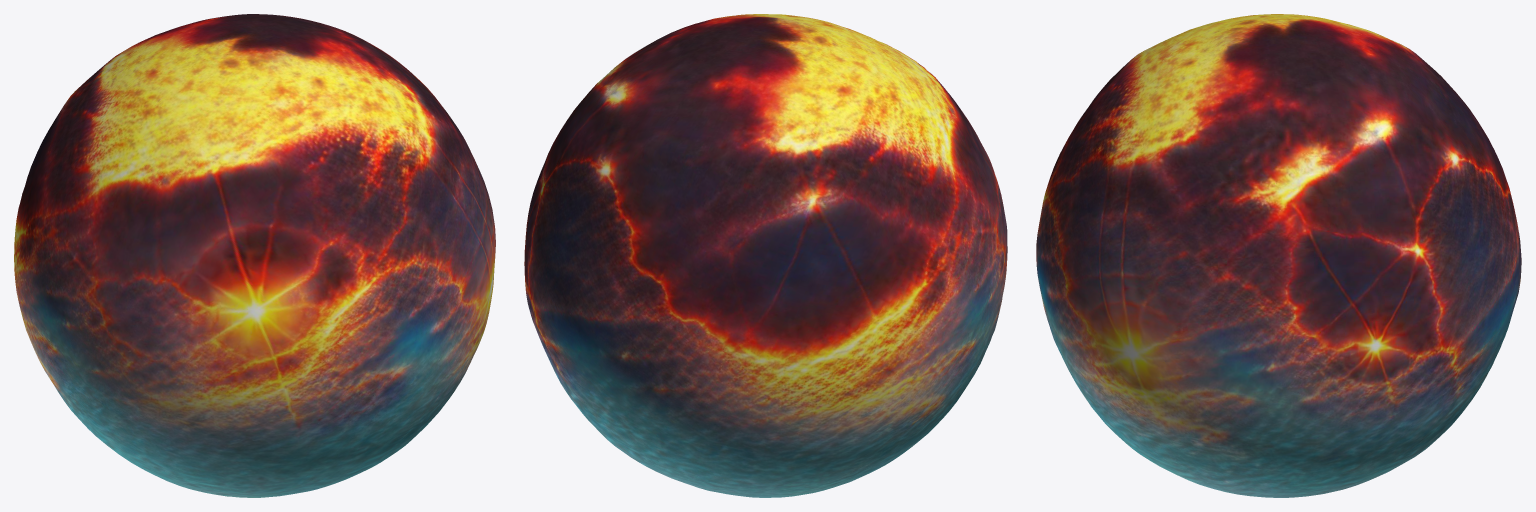
The picture shows the model from 3 angles, left to right: view 1: azimuth 30°, elevation 25°; view 2: azimuth 150°, elevation 25°; view 3: azimuth 270°, elevation 25°; orthographic projection.
Parts seen in each view (by area): view 1: mesh; view 2: mesh; view 3: mesh.
Boxes of the visible parts, x1,y1,x2,y2 form: mesh: [14, 14, 495, 497]; mesh: [524, 14, 1007, 497]; mesh: [1036, 14, 1521, 497].
Size of the model in its own units: 0.9976 by 0.9984 by 0.9996.
Materials: 1 (1 with a texture image).
